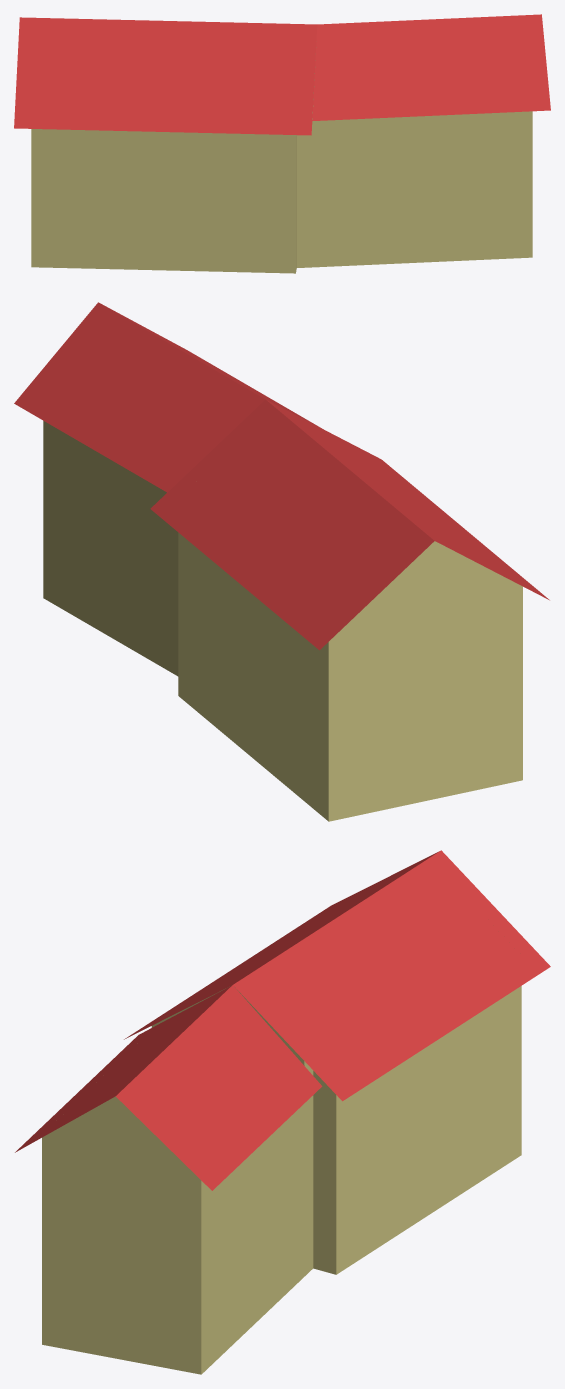
3 views of the same model, one above another, from view 1: azimuth 30°, elevation 25°; view 2: azimuth 150°, elevation 25°; view 3: azimuth 270°, elevation 25° (orthographic). The views are drawn at different scales.
Size of the model in its own units: 32.88 by 25.31 by 14.14.
